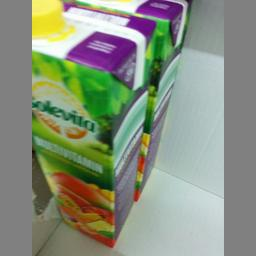juice: (30, 0, 158, 248)
